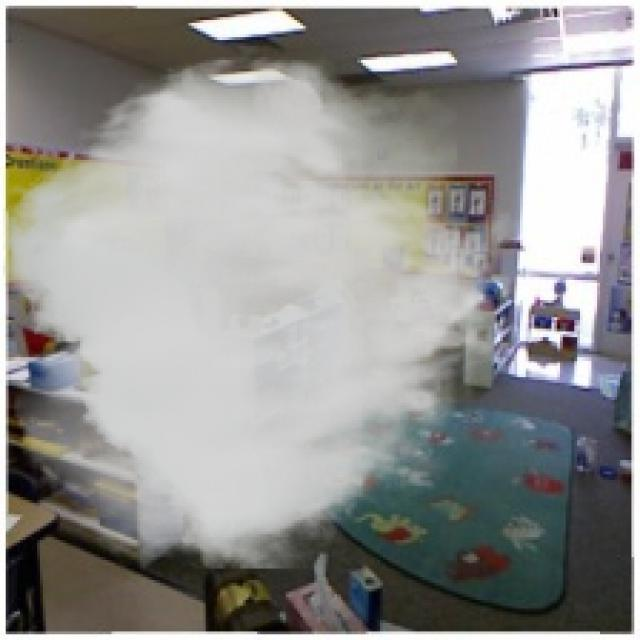Smoke: (3, 51, 523, 568)
